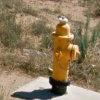Hydrant: (43, 11, 81, 95)
